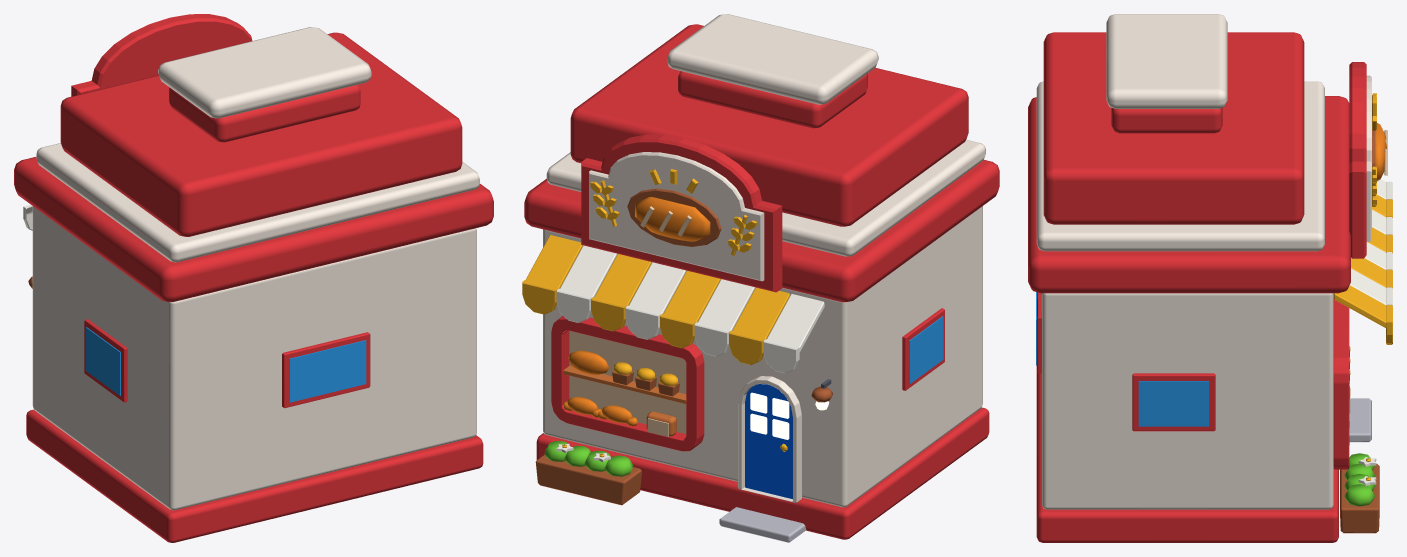
File: Bakery.glb
3 renders of one model, left to right at view 1: azimuth 30°, elevation 25°; view 2: azimuth 150°, elevation 25°; view 3: azimuth 270°, elevation 25°, orthographic. The views are drawn at different scales.
Visible parts, largest first — view 1: M_Bakery_HouseWall, M_Bakery_ToyRed, M_Bakery_TruckCab; view 2: M_Bakery_ToyRed, M_Bakery_HouseWall, M_Bakery_ToyYellow, M_Bakery_WallWhite, M_Bakery_HouseTrim, M_Bakery_FenceWood, M_Bakery_RoofOrange, M_Bakery_ToyBlue, M_Bakery_PlaneFlap, M_Bakery_TruckCab, M_Bakery_Leaves, M_Bakery_Light (+1 smaller); view 3: M_Bakery_HouseWall, M_Bakery_ToyRed, M_Bakery_TruckCab, M_Bakery_ToyYellow, M_Bakery_WallWhite, M_Bakery_FenceWood, M_Bakery_Leaves, M_Bakery_PlaneFlap, M_Bakery_RoofOrange.
Part boxes in pixels (box(x1,y1,x2,y2)): M_Bakery_HouseWall: box(32, 27, 479, 510); M_Bakery_ToyRed: box(14, 14, 493, 542); M_Bakery_TruckCab: box(85, 327, 366, 402); M_Bakery_ToyRed: box(524, 24, 999, 539); M_Bakery_HouseWall: box(543, 14, 985, 507); M_Bakery_ToyYellow: box(522, 169, 789, 457); M_Bakery_WallWhite: box(556, 245, 824, 462); M_Bakery_HouseTrim: box(569, 206, 691, 436); M_Bakery_FenceWood: box(535, 188, 832, 505); M_Bakery_RoofOrange: box(564, 196, 710, 426); M_Bakery_ToyBlue: box(745, 384, 792, 499); M_Bakery_PlaneFlap: box(719, 507, 806, 542); M_Bakery_TruckCab: box(909, 316, 943, 384); M_Bakery_Leaves: box(544, 441, 633, 476); M_Bakery_Light: box(750, 392, 829, 439); M_Bakery_HouseWall: box(1036, 14, 1371, 509); M_Bakery_ToyRed: box(1028, 32, 1366, 542); M_Bakery_TruckCab: box(1036, 292, 1209, 426); M_Bakery_ToyYellow: box(1333, 93, 1392, 480); M_Bakery_WallWhite: box(1350, 179, 1392, 486); M_Bakery_FenceWood: box(1340, 116, 1379, 533); M_Bakery_Leaves: box(1344, 453, 1375, 506); M_Bakery_PlaneFlap: box(1349, 398, 1371, 442); M_Bakery_RoofOrange: box(1349, 123, 1386, 444).
Size of the model in its own units: 11.5 by 13.15 by 10.5.
